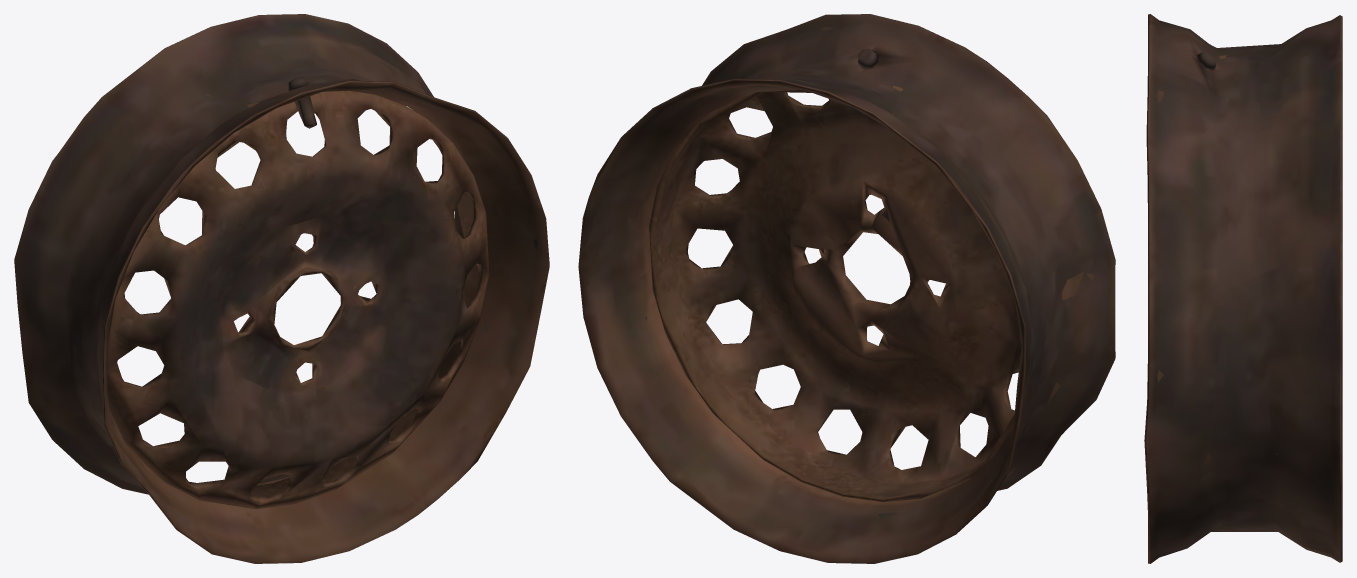
Rendered from rusted_wheel_rim_02.glb.
The picture shows the model from 3 angles, left to right: view 1: azimuth 30°, elevation 25°; view 2: azimuth 150°, elevation 25°; view 3: azimuth 270°, elevation 25°; orthographic projection. The views are drawn at different scales.
Parts seen in each view (by area): view 1: rusted_wheel_rim_02; view 2: rusted_wheel_rim_02; view 3: rusted_wheel_rim_02.
Boxes of the visible parts, x1,y1,x2,y2 form: rusted_wheel_rim_02: (14, 14, 549, 563); rusted_wheel_rim_02: (578, 14, 1115, 563); rusted_wheel_rim_02: (1144, 14, 1342, 563).
Size of the model in its own units: 0.3337 by 0.3356 by 0.1211.
1 material, 1 textured.
